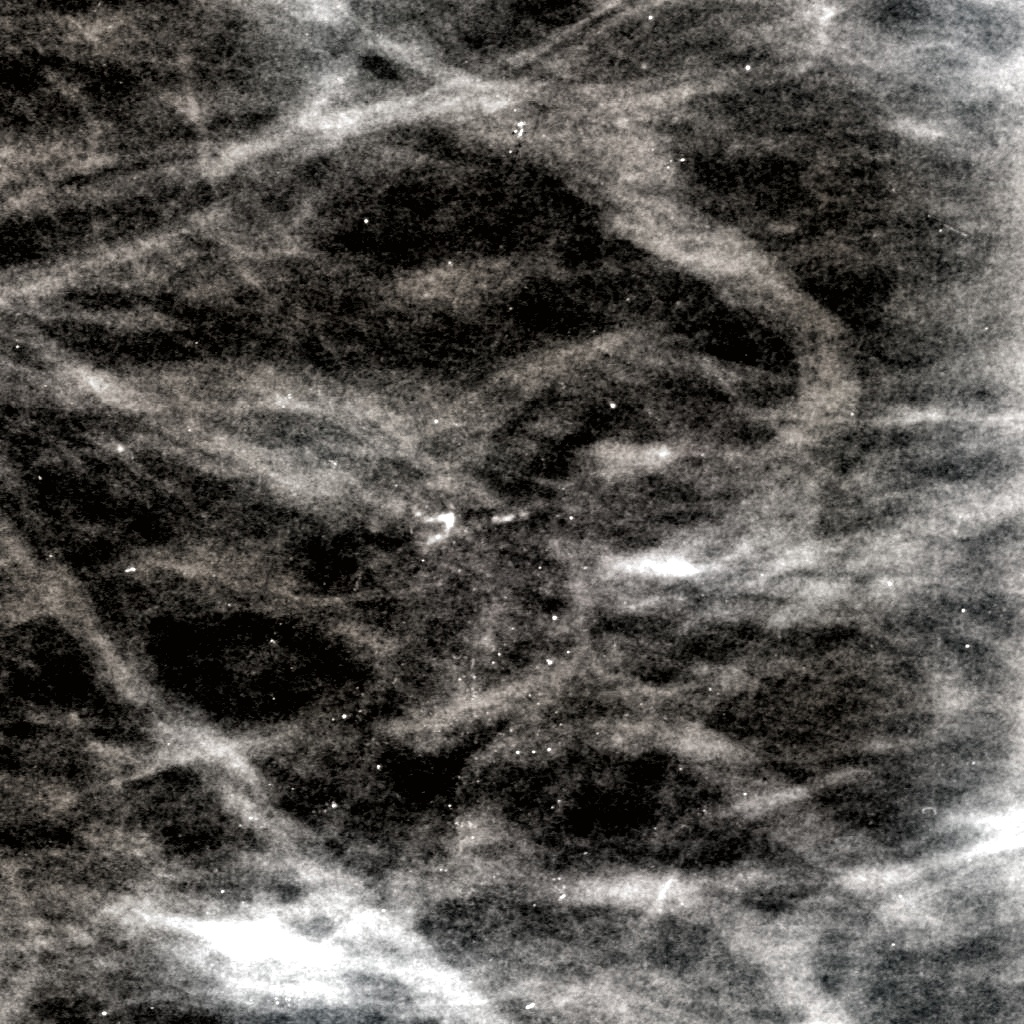tumor: (352, 444, 672, 580)
